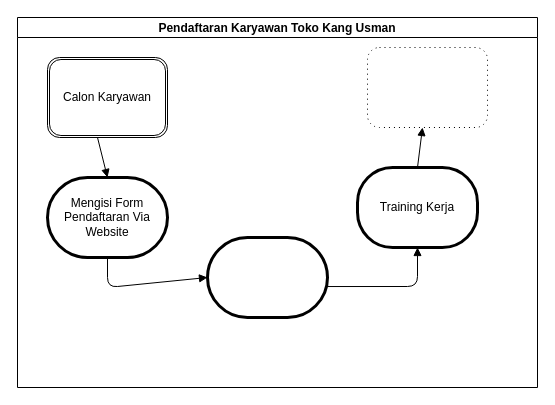
The diagram is 555 pixels wide and 405 high, and some of its shapes have lost their labels. Here are the shapes that lost their labels. From the top down, the centre of each, then its label:
At (x=427, y=87): "Diterima Kerja".
At (x=267, y=277): "Wawancara Calon Pendaftaran".
